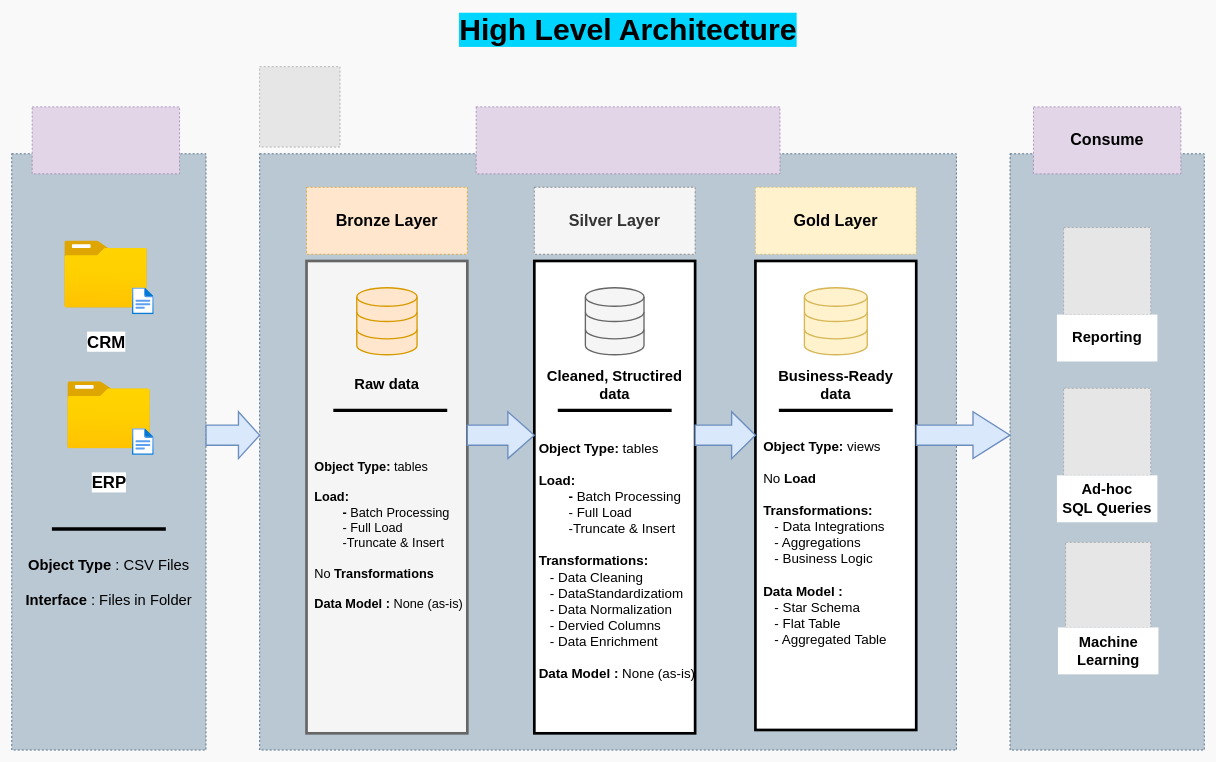
This 1216x762 diagram has some shape labels left out. Grey dashed boxes stand in for pictures. The centre of each missing label's shape, as x and y in pixels:
"Data Warehouse" belongs at (x=627, y=140).
"Sources" belongs at (x=105, y=140).
